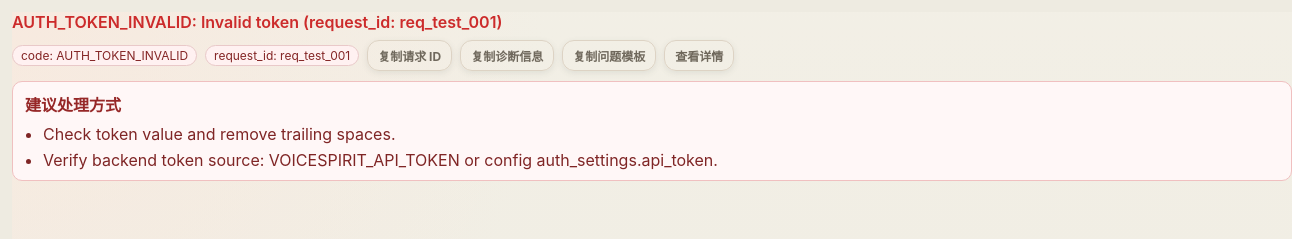
ErrorNotice › copies markdown issue template payload
This screenshot has width=1292, height=239.
Click the button "复制问题模板" at (609, 56), box 562,40 -> 656,71
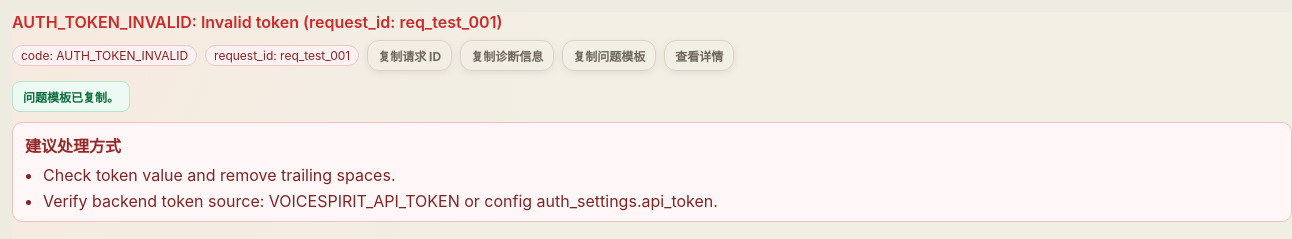
expect the message reads "问题模板已复制。": met, box 23,90 -> 119,105
